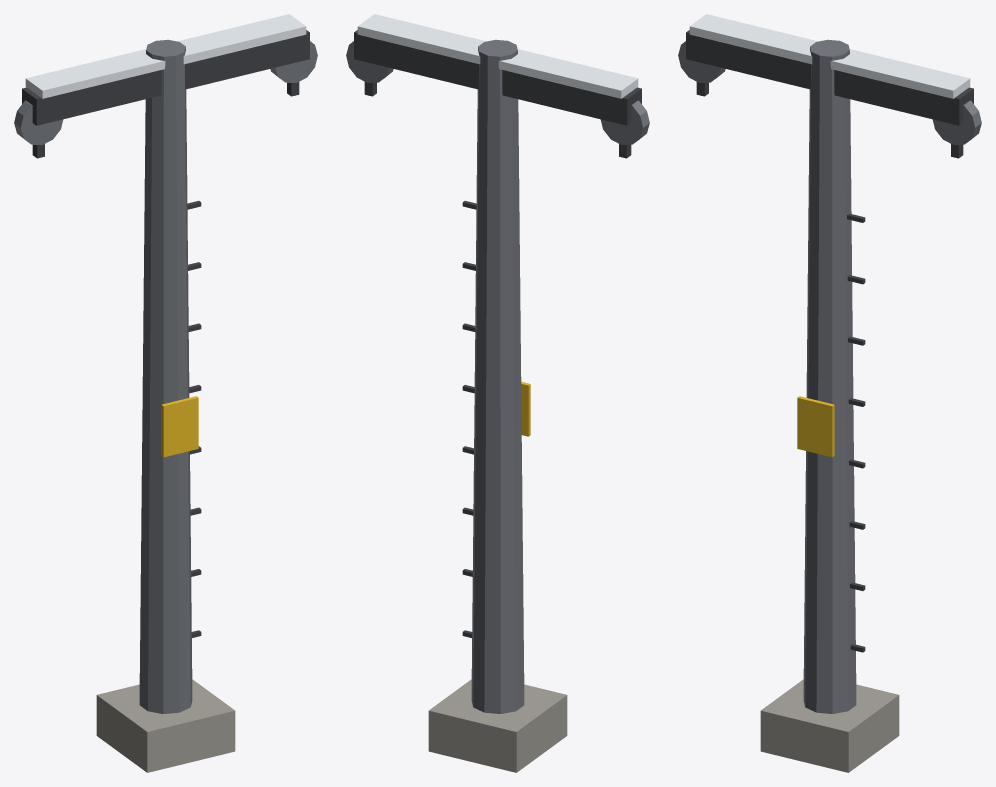
The model's file is p_pylon.glb.
3 renders of one model, left to right at view 1: azimuth 30°, elevation 25°; view 2: azimuth 150°, elevation 25°; view 3: azimuth 330°, elevation 25°, orthographic.
Parts seen in each view (by area): view 1: pylon; view 2: pylon; view 3: pylon.
Boxes of the visible parts, x1,y1,x2,y2 form: pylon: [14, 14, 317, 772]; pylon: [346, 14, 649, 772]; pylon: [678, 14, 981, 772].
Size of the model in its own units: 3.04 by 6.8 by 0.9.
